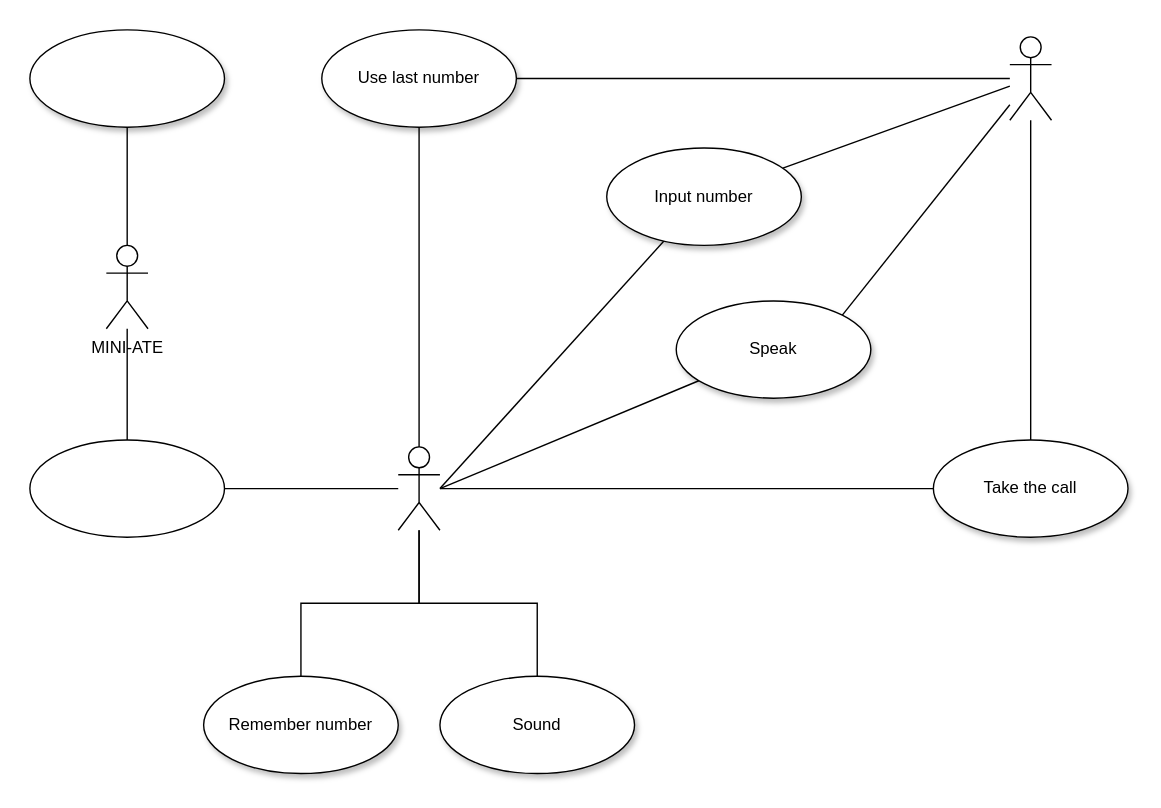
Some shapes in this 1161 by 808 pixel diagram are drawn without their labels. The centre of each missing label's shape, as x and y in pixels:
Communicate: (x=128, y=80)
Phone: (x=418, y=487)
send a signal: (x=126, y=488)
User: (x=1030, y=77)
